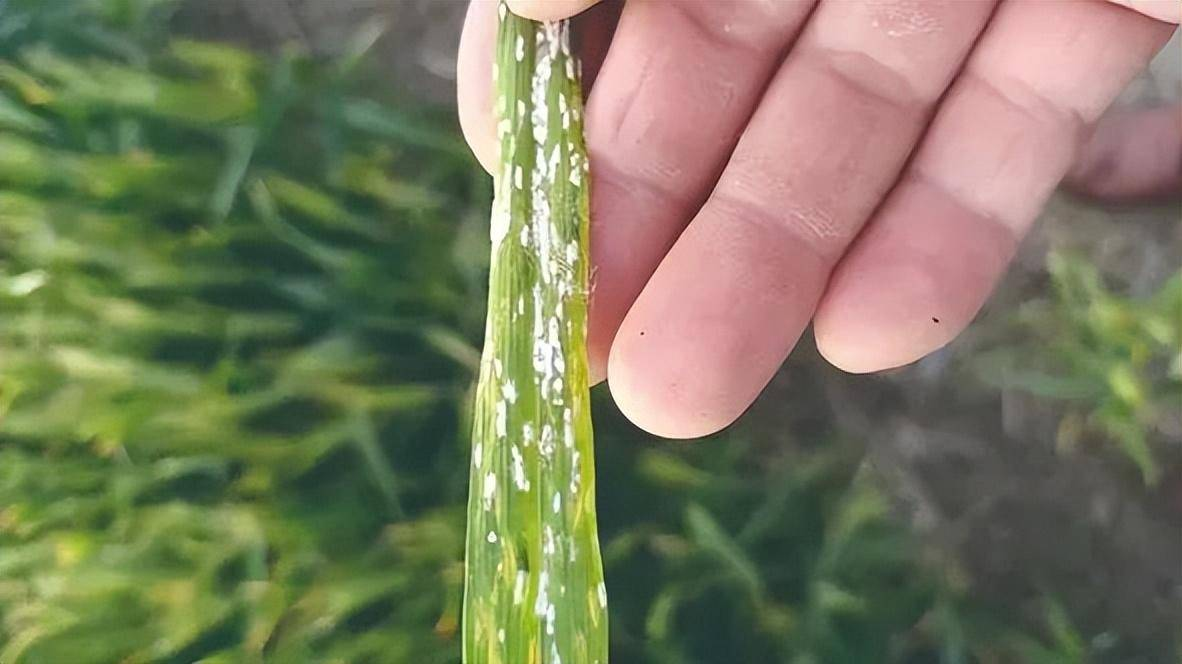Powdery Mildew: (469, 23, 622, 654)
